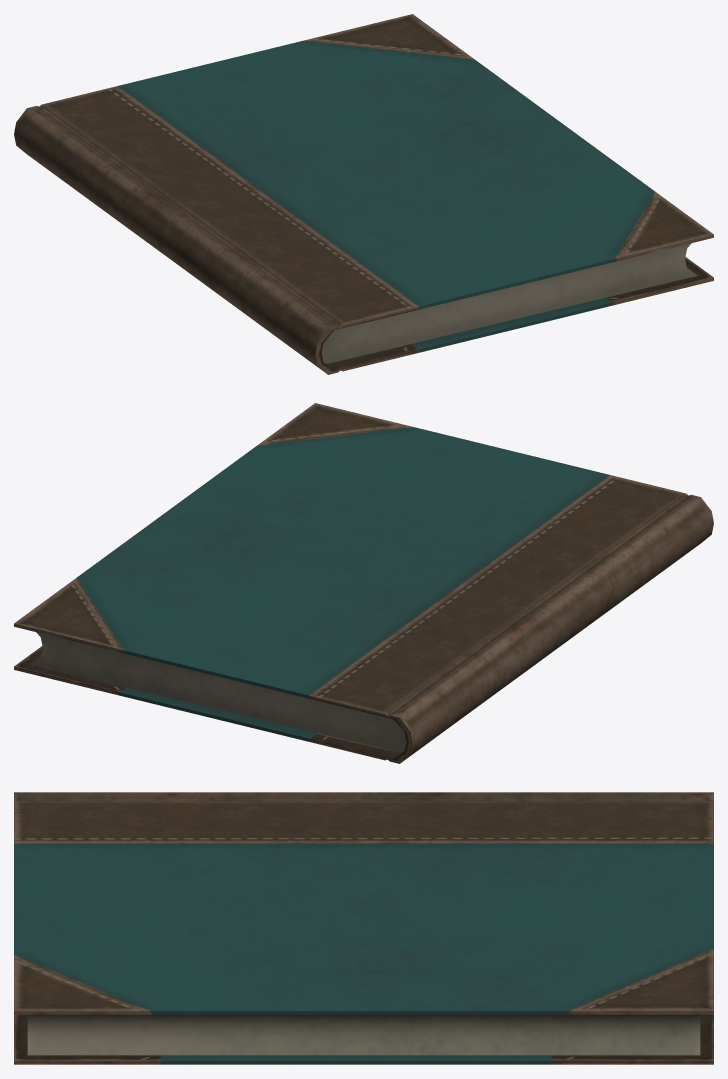
Rendered from book_5.FBX.
3 renders of one model, top to bottom at view 1: azimuth 30°, elevation 25°; view 2: azimuth 150°, elevation 25°; view 3: azimuth 270°, elevation 25°, orthographic. The views are drawn at different scales.
Visible parts, largest first — view 1: Book_5; view 2: Book_5; view 3: Book_5.
Boxes of the visible parts, x1,y1,x2,y2 form: Book_5: (14,14,713,374); Book_5: (14,403,713,763); Book_5: (14,792,713,1064).
Bounding box in the file's own units: 0.1149 × 0.0128 × 0.1503.
Materials: 1 (1 with a texture image).
